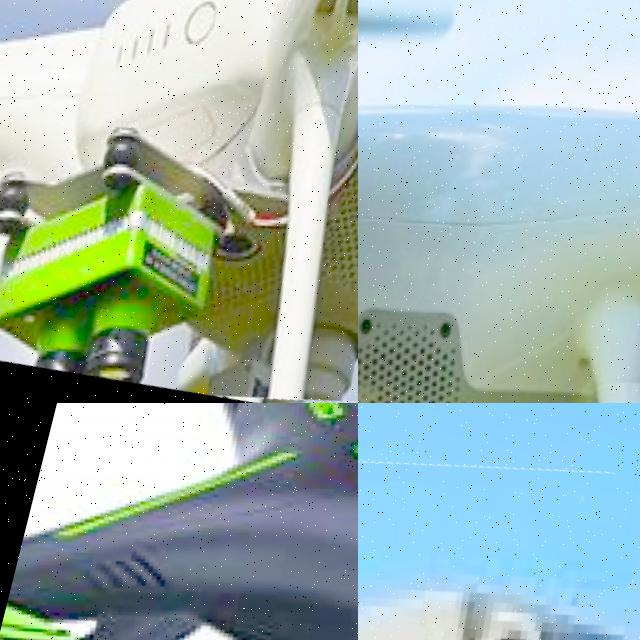drone: (0, 0, 358, 403), (358, 0, 640, 403), (0, 403, 358, 640), (358, 405, 640, 640)
